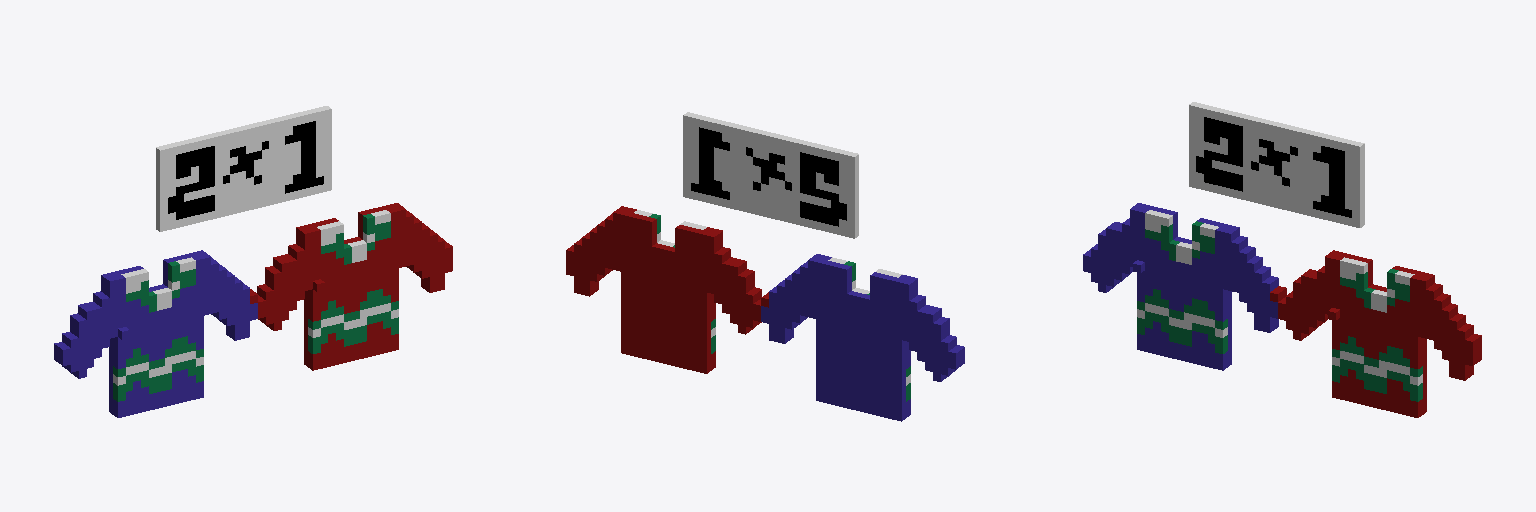
3 renders of one model, left to right at view 1: azimuth 30°, elevation 25°; view 2: azimuth 150°, elevation 25°; view 3: azimuth 330°, elevation 25°, orthographic.
Visible parts, largest first — view 1: object 1; view 2: object 1; view 3: object 1.
Part boxes in pixels (x1,y1,x2,y2): object 1: (54,106,452,417); object 1: (566,112,964,421); object 1: (1083,102,1481,417).
Size of the model in its own units: 5 by 3.1 by 0.3.
1 materials, 1 textured.